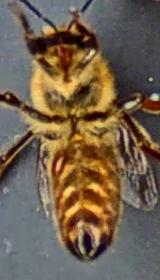varroa_mite: (34, 143, 76, 180)
